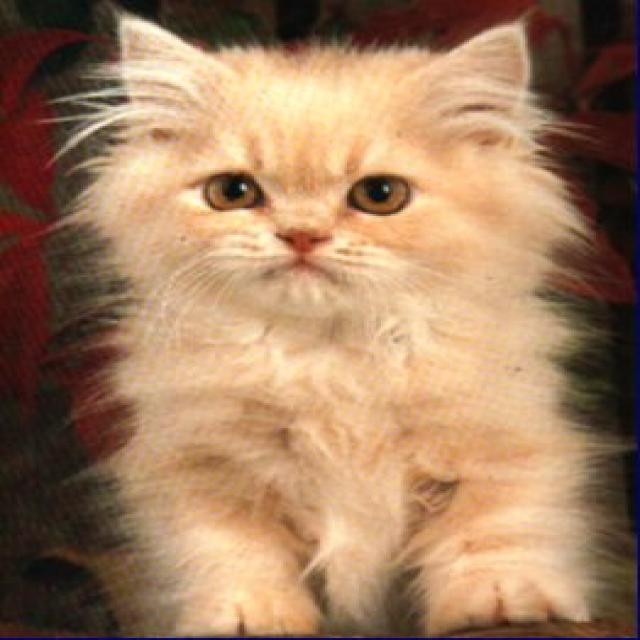Persian: (86, 5, 559, 332)
